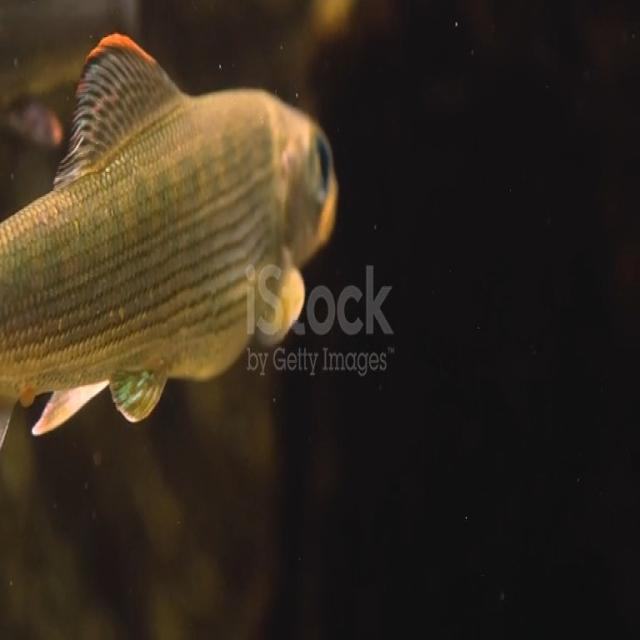fish: (0, 27, 342, 462)
